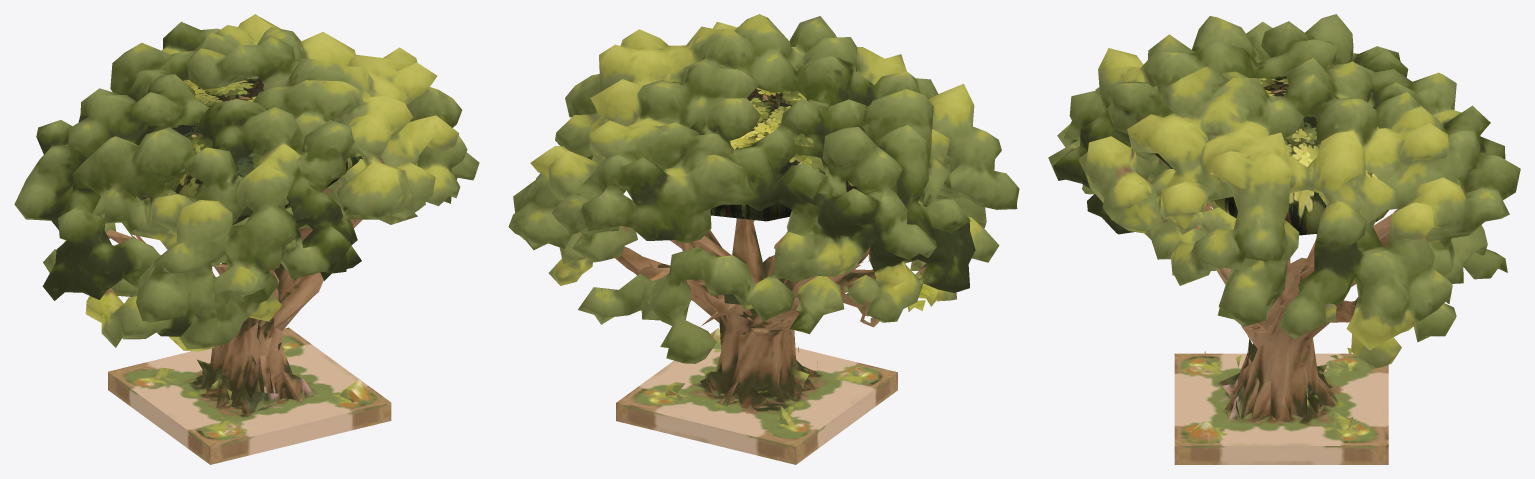
The model's file is tree_banyan.glb.
3 renders of one model, left to right at view 1: azimuth 30°, elevation 25°; view 2: azimuth 150°, elevation 25°; view 3: azimuth 270°, elevation 25°, orthographic. The views are drawn at different scales.
Parts seen in each view (by area): view 1: body, canopy; view 2: body, canopy; view 3: body, canopy.
Boxes of the visible parts, bbox=[...] form: body: bbox=[14, 14, 479, 464]; canopy: bbox=[138, 76, 362, 224]; body: bbox=[508, 14, 1019, 464]; canopy: bbox=[672, 81, 867, 221]; body: bbox=[1048, 14, 1520, 464]; canopy: bbox=[1153, 76, 1388, 235].
Bounding box in the file's own units: 12.06 × 9.61 × 11.25.
2 materials, 2 textured.
